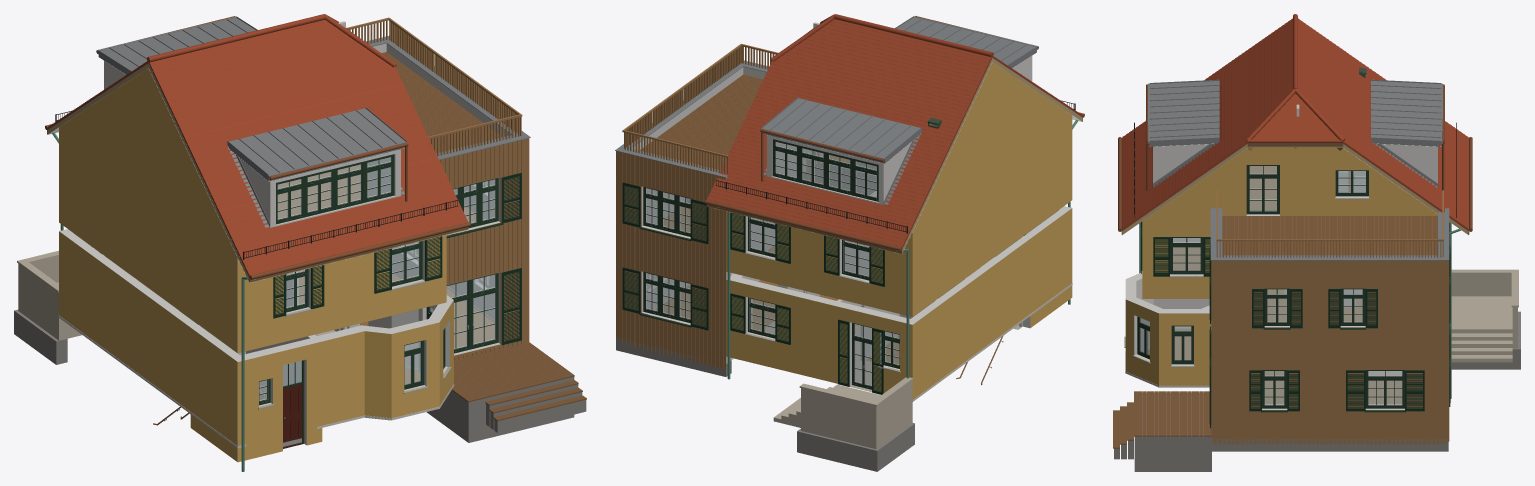
Rendered from vorschlag.glb.
The picture shows the model from 3 angles, left to right: view 1: azimuth 30°, elevation 25°; view 2: azimuth 150°, elevation 25°; view 3: azimuth 270°, elevation 25°; orthographic projection. The views are drawn at different scales.
Parts seen in each view (by area): view 1: vorschlag; view 2: vorschlag; view 3: vorschlag.
Part boxes in pixels (bbox=[...]): vorschlag: bbox=[14, 14, 586, 471]; vorschlag: bbox=[615, 14, 1084, 471]; vorschlag: bbox=[1113, 14, 1520, 471].
Bounding box in the file's own units: 11.98 × 12.65 × 14.65.
